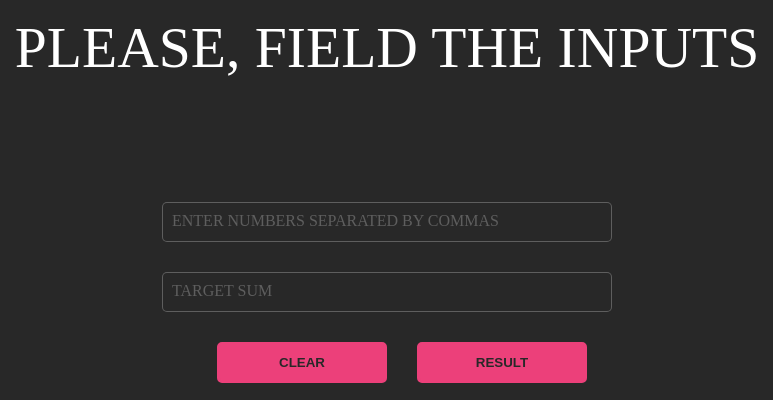
Algorithm component › finds pairs correctly when form is submitted
This screenshot has width=773, height=400.
Step 1. Type "1,2,3" into the field named "Enter numbers separated by commas" → {"x": 387, "y": 222}, box 162,202 -> 612,242
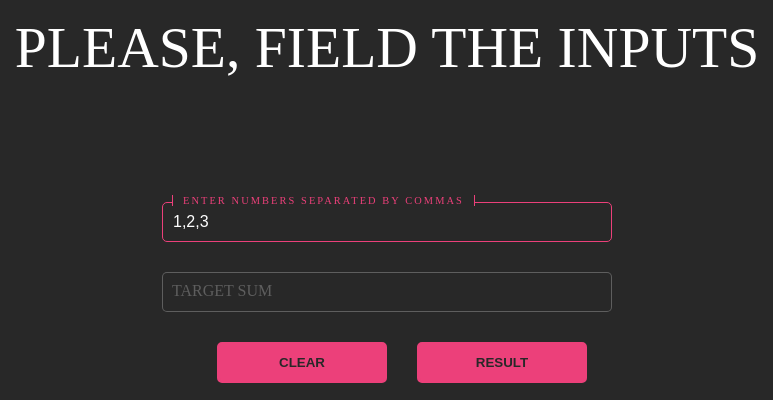
Step 2. Type "5" into the field named "Target sum" → {"x": 387, "y": 292}, box 162,272 -> 612,312
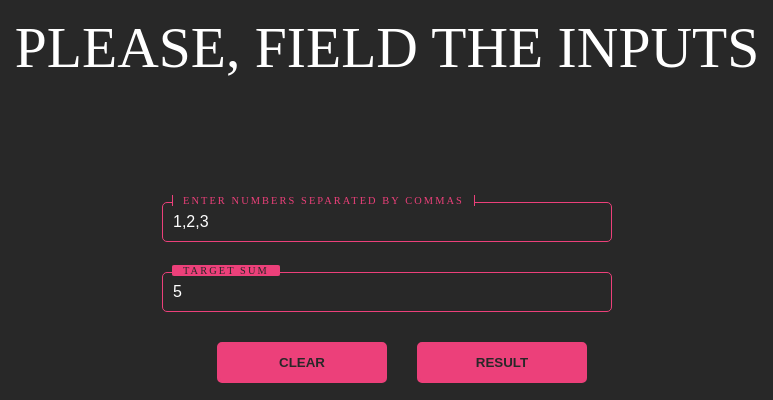
Step 3. Click the button "result" → {"x": 502, "y": 362}, box 417,342 -> 587,382
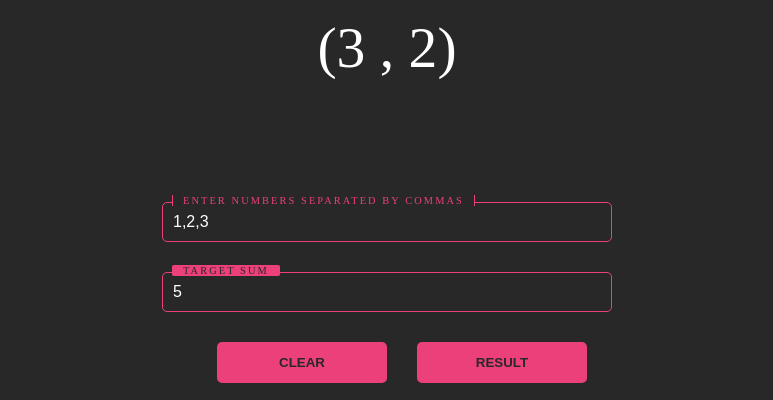
Expected: the text "(3 , 2)" is shown, 317,16 -> 457,79
